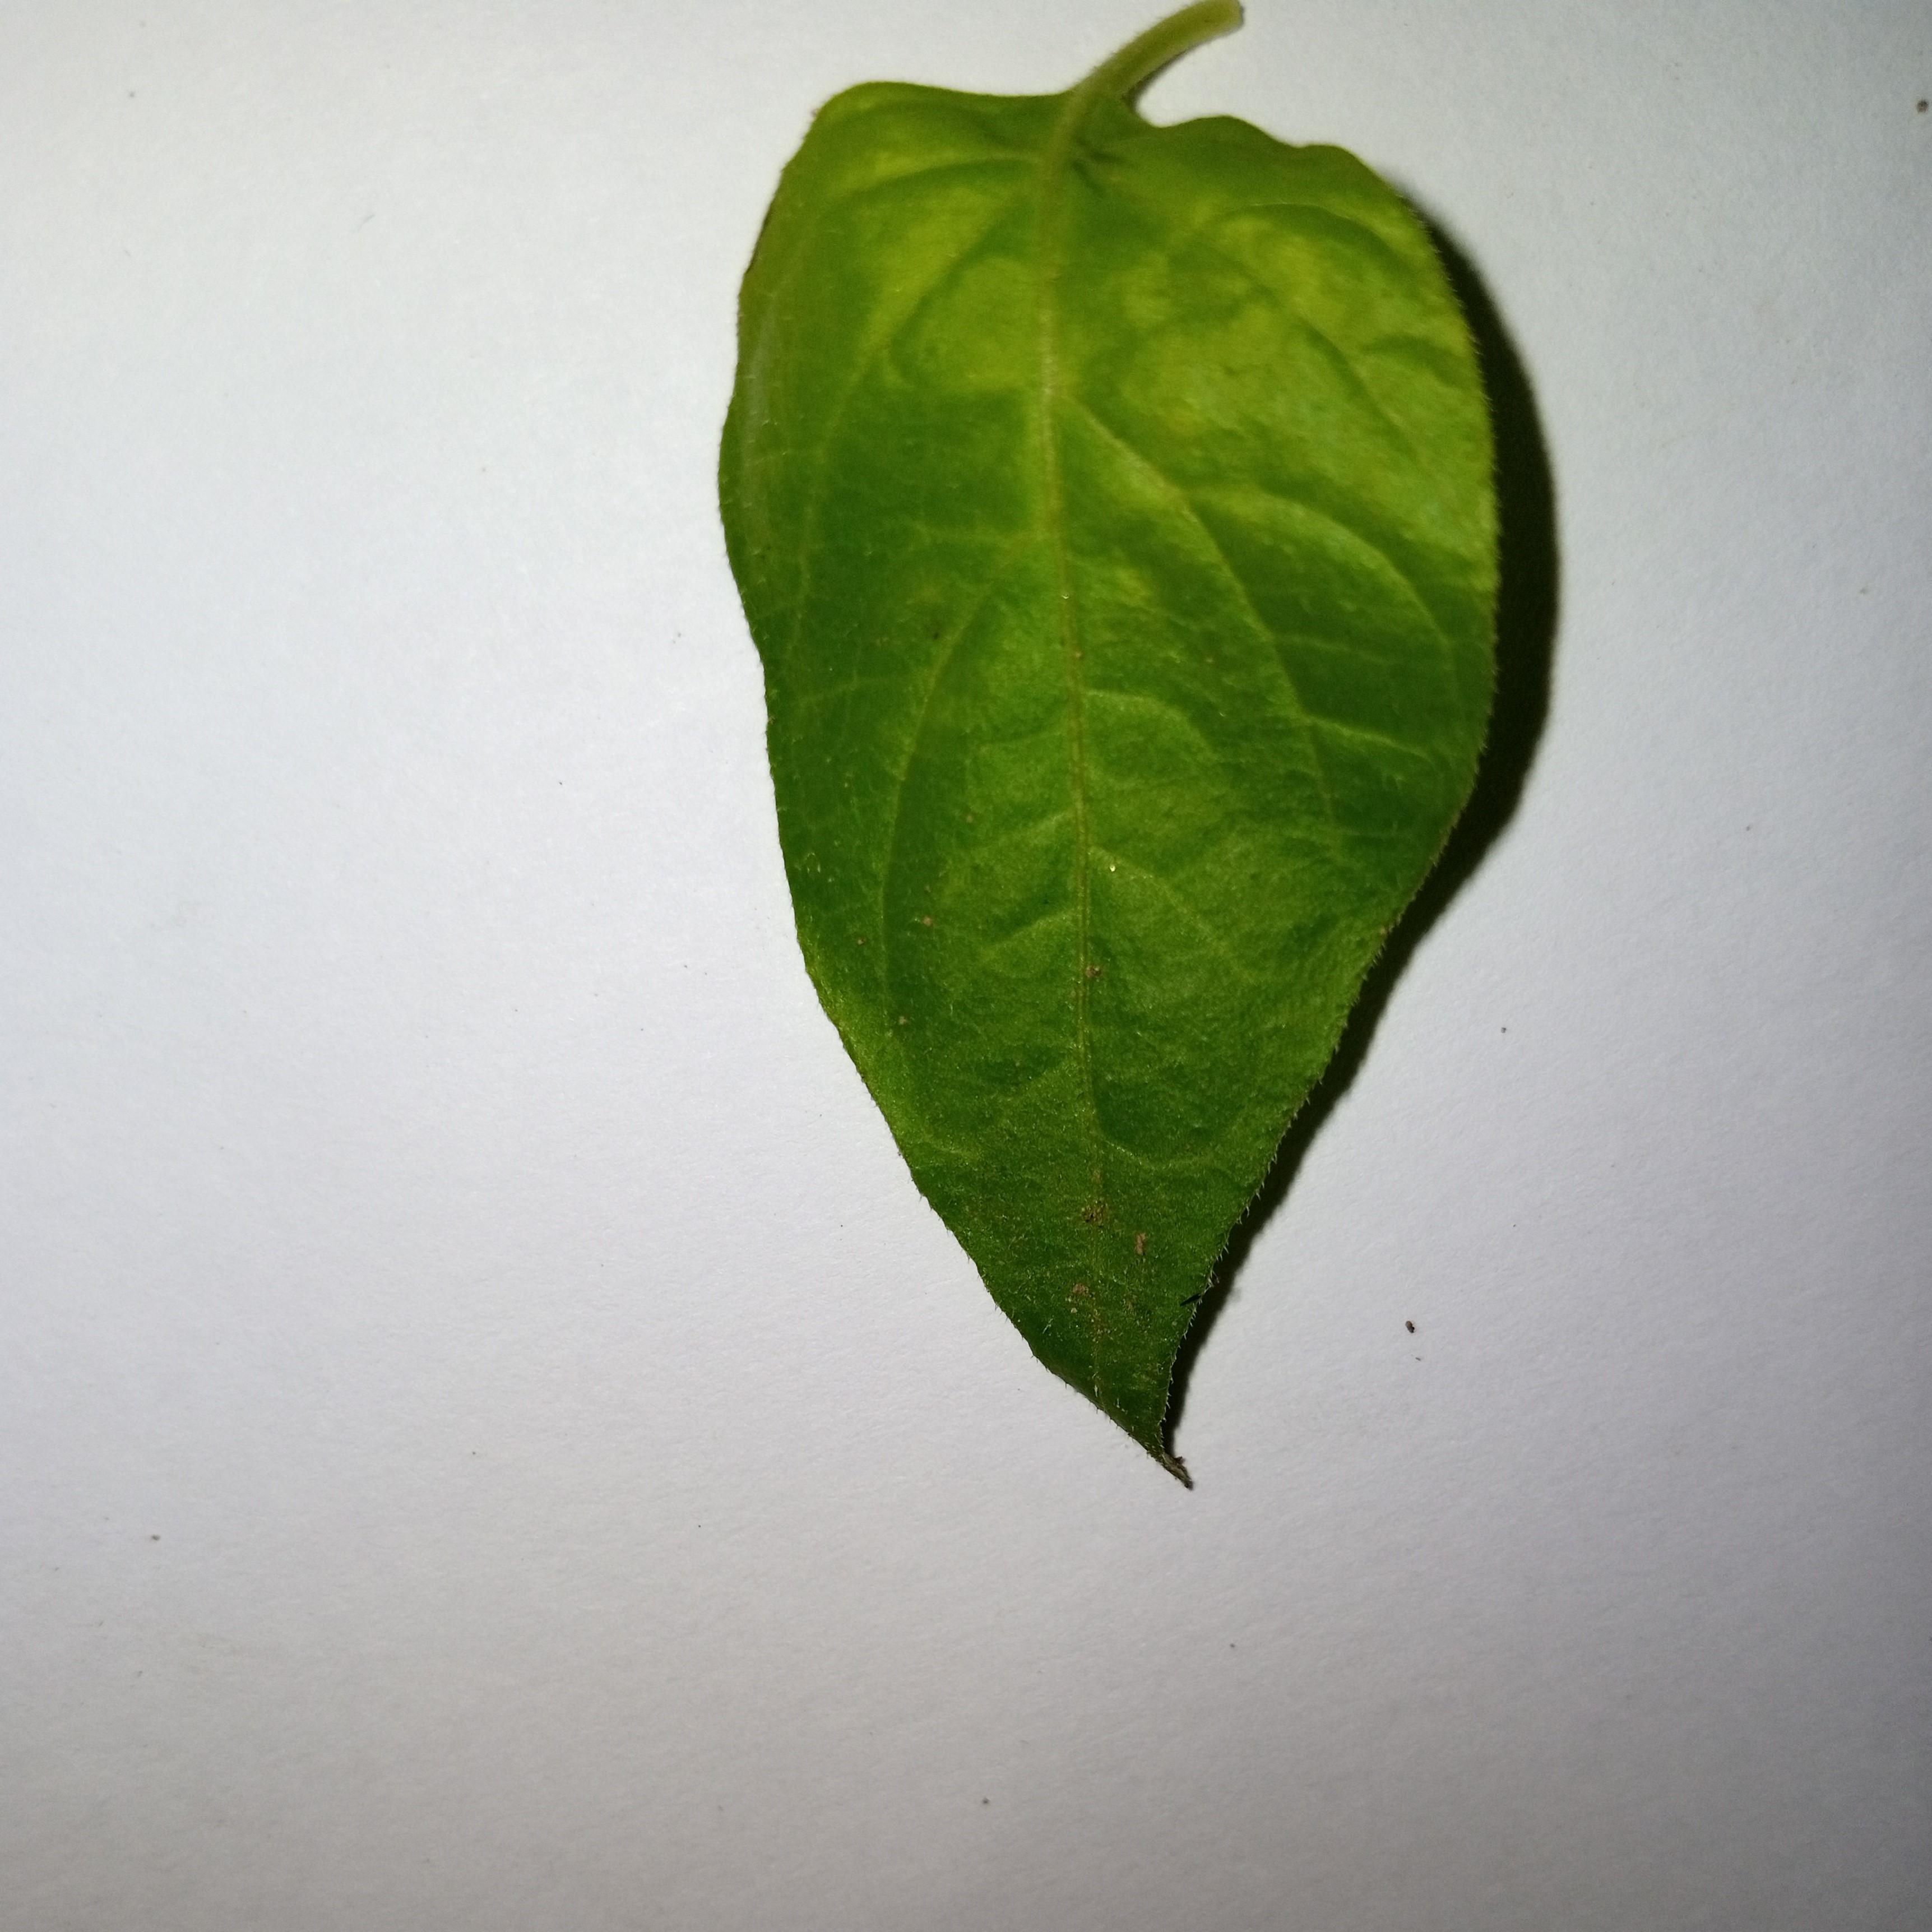Leaf: (520, 42, 1652, 1617)
